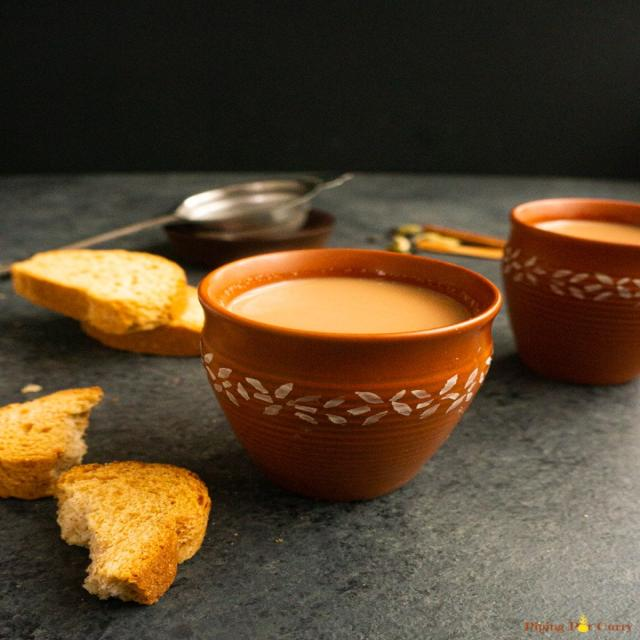chai: (192, 236, 501, 494), (504, 191, 639, 398)
